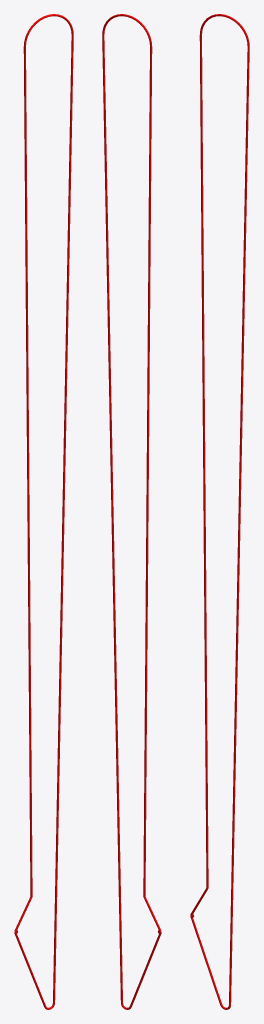
File: cable.obj
3 views of the same model, side by side, from view 1: azimuth 30°, elevation 25°; view 2: azimuth 150°, elevation 25°; view 3: azimuth 330°, elevation 25° (orthographic).
Parts seen in each view (by area): view 1: Part18; view 2: Part18; view 3: Part18.
Boxes of the visible parts, box(x1,y1,x2,y2) form: Part18: box(14, 14, 73, 1009); Part18: box(102, 14, 161, 1009); Part18: box(190, 14, 249, 1009).
Size of the model in its own units: 310 by 4970 by 10.
